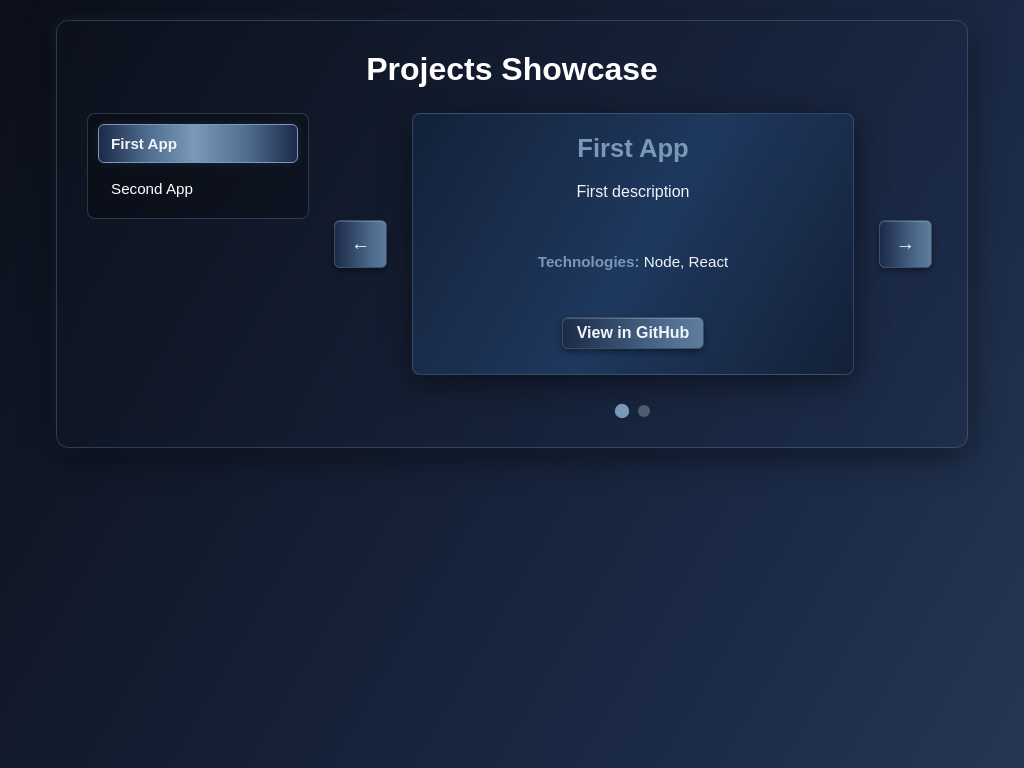
Test: ProjectsPage › navigates between projects when clicking the next and previous buttons
Click the button "Second App" at [198, 188], box [98, 169, 298, 208]
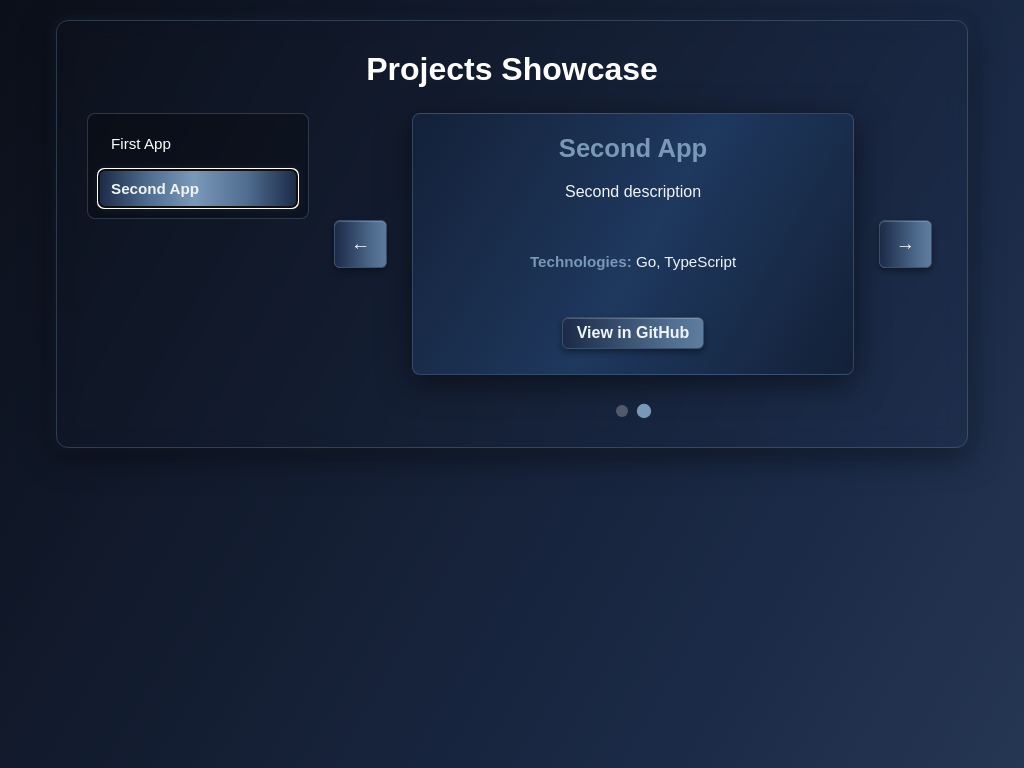
Result: the text "Second description" is shown at [565, 183, 701, 200]
Click the button "←" at [361, 244], box [334, 220, 387, 268]
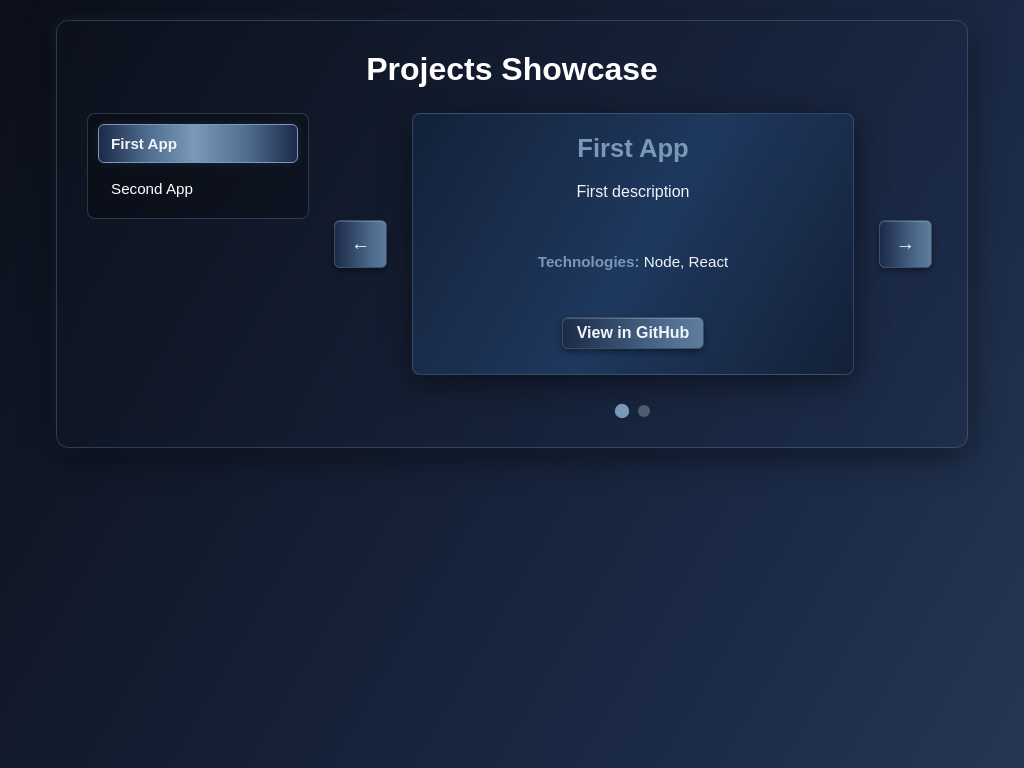
Result: the text "First description" is shown at [576, 183, 689, 200]
